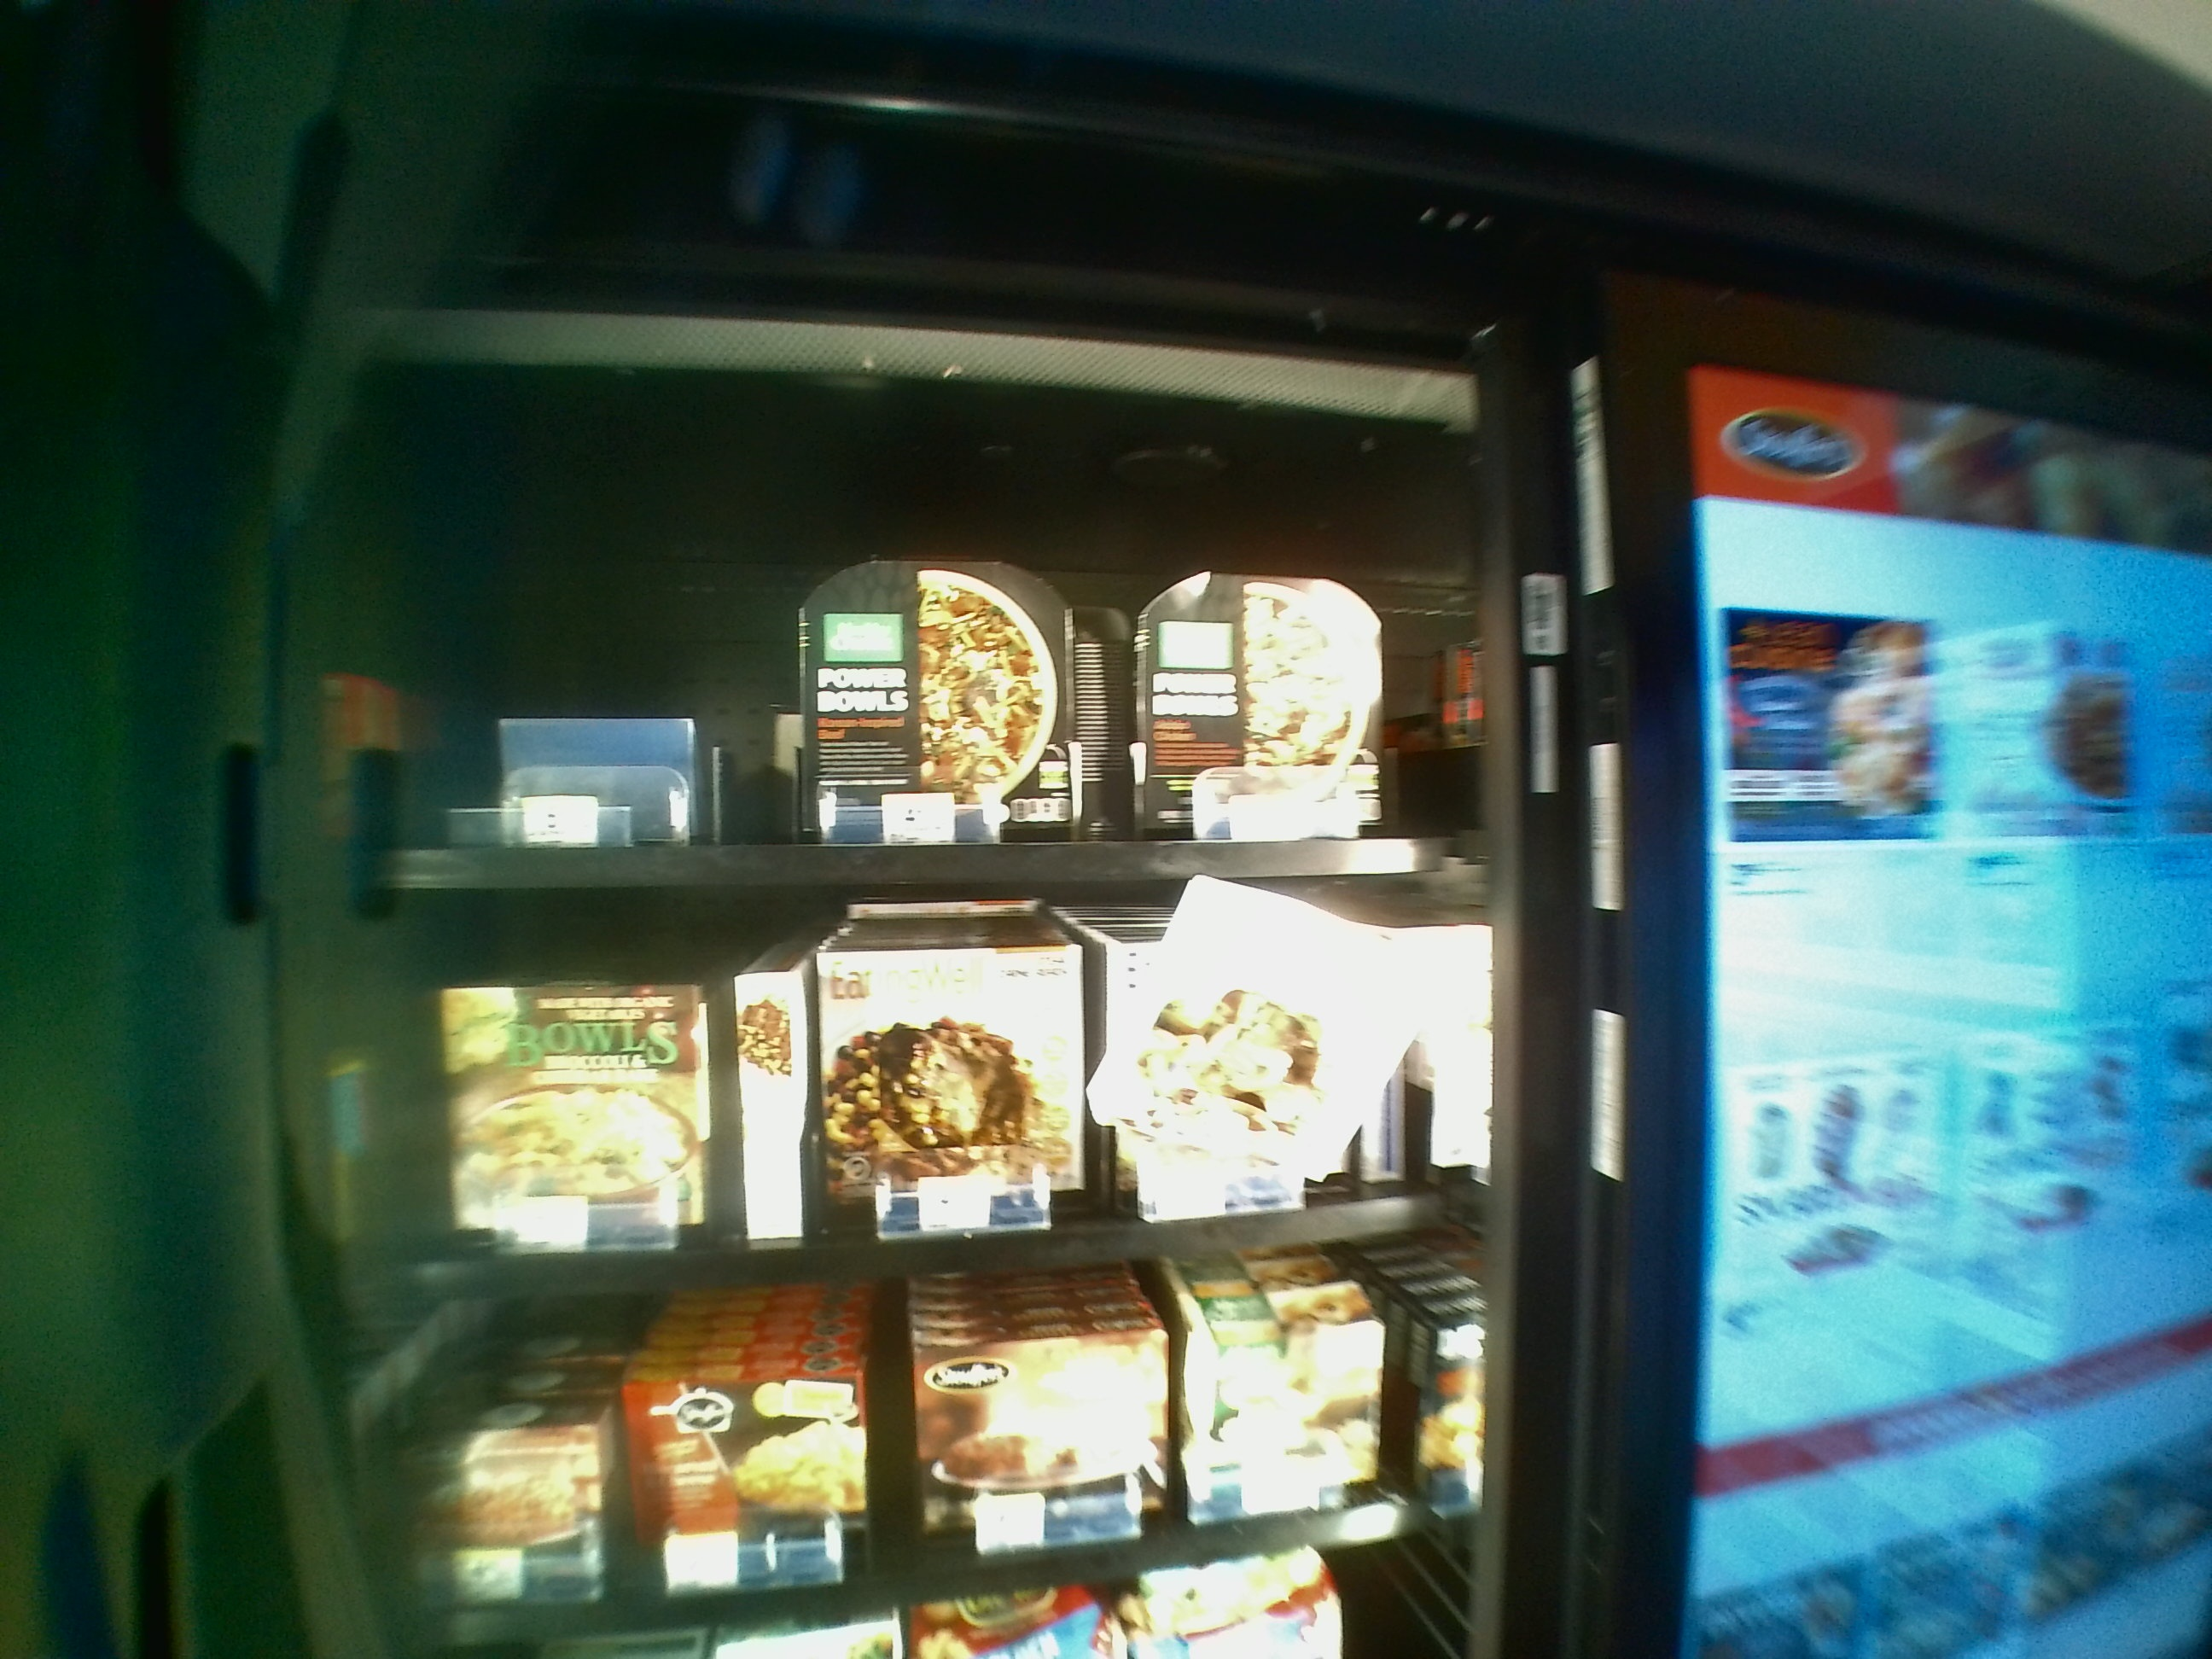shelf: (369, 420, 1475, 889), (371, 903, 1475, 1303)
